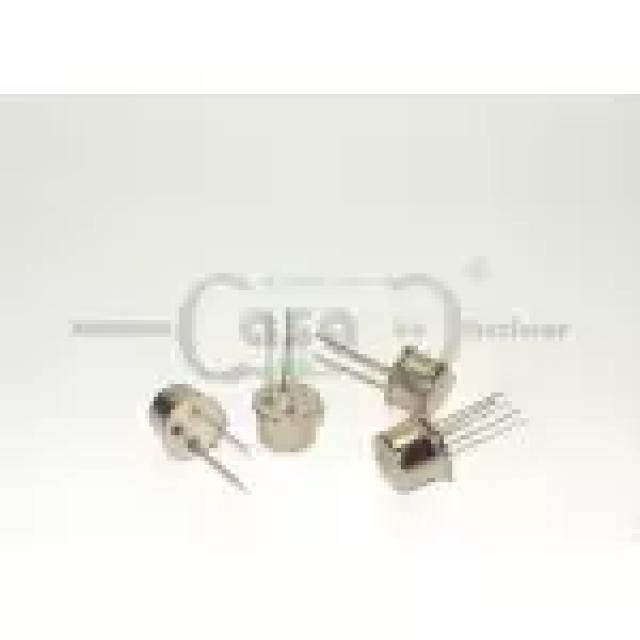Transistor: (146, 367, 253, 505), (336, 314, 484, 403), (366, 405, 512, 490), (245, 306, 324, 456)
